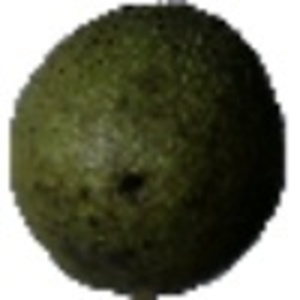abacate: (8, 3, 286, 292)
